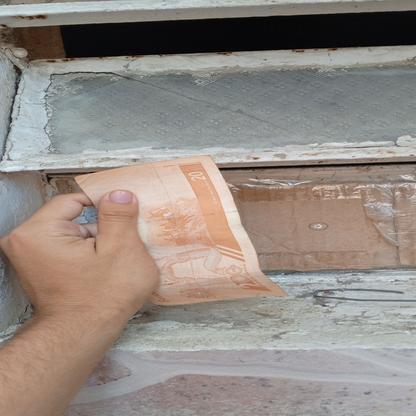twenty-back-vef: (74, 154, 288, 307)
